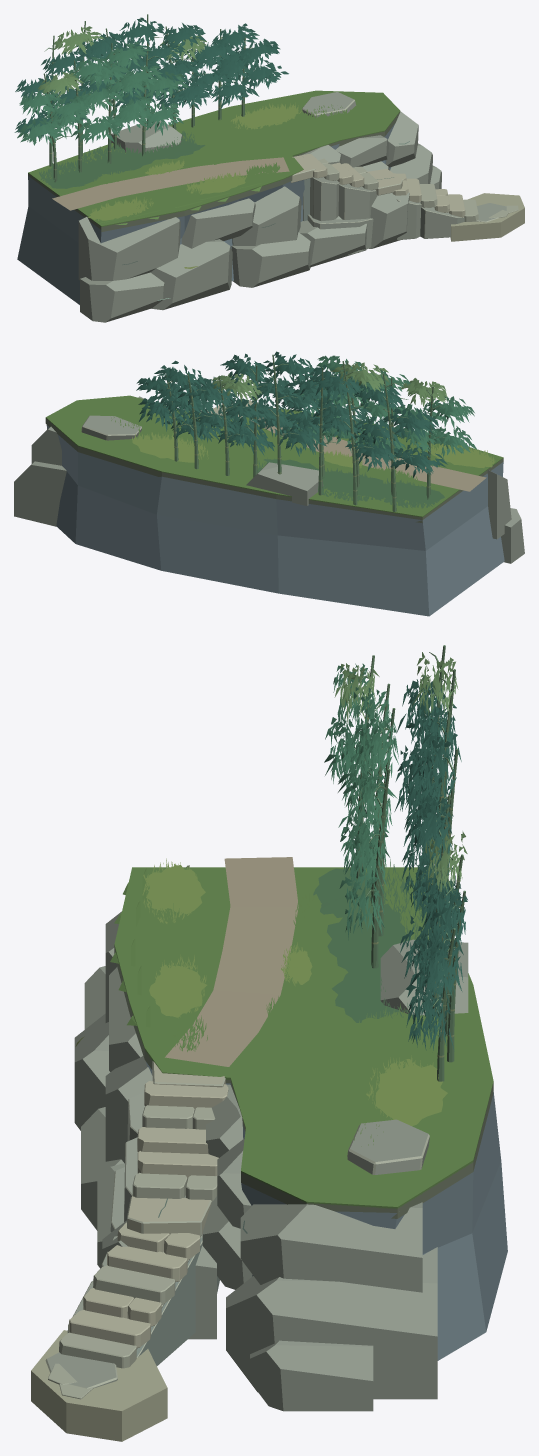
The model's file is fresh_pixel_cape.glb.
3 views of the same model, one above another, from view 1: azimuth 30°, elevation 25°; view 2: azimuth 150°, elevation 25°; view 3: azimuth 270°, elevation 25° (orthographic). The views are drawn at different scales.
Parts seen in each view (by area): view 1: Terrace_Grass_Surface, Cape_Continuous_Core, Rock_West_Crown, Rock_Mid_Lower, Quiet_Earth_Path, Rock_West_Foot, Rock_Entry_Foot, Rock_Entry_Main, Rock_Mid_Crown, Rock_Lower_Bank, Lower_Shore_Shelf, Rock_Landing_Buttress (+59 smaller); view 2: Cape_Continuous_Core, Terrace_Grass_Surface, Rock_End_Lower, Terrace_Earth_Thickness, Quiet_Earth_Path, Rock_Bamboo_Buried.001, Rock_West_Crown, Grass_Patch_Blades_05, Grass_Patch_Blades_04, Rock_Terrace_Slab, Grass_Patch_Blades_08, Grass_Patch_Blades_07 (+49 smaller); view 3: Terrace_Grass_Surface, Rock_End_Lower, Quiet_Earth_Path, Cape_Continuous_Core, Rock_End_Crown, Rock_End_Foot, Lower_Shore_Shelf, Rock_Terrace_Slab, Rock_Mid_Lower, Grass_Patch_08, Rock_Bamboo_Buried.001, Lower_Flight_Embedded_Rockbed (+54 smaller).
Part boxes in pixels (x1=…): Terrace_Grass_Surface: x1=28, y1=90, x2=400, y2=226; Cape_Continuous_Core: x1=17, y1=123, x2=395, y2=304; Rock_West_Crown: x1=78, y1=217, x2=180, y2=280; Rock_Mid_Lower: x1=151, y1=239, x2=232, y2=310; Quiet_Earth_Path: x1=52, y1=157, x2=289, y2=210; Rock_West_Foot: x1=80, y1=272, x2=164, y2=322; Rock_Entry_Foot: x1=231, y1=232, x2=310, y2=287; Rock_Entry_Main: x1=232, y1=186, x2=301, y2=245; Rock_Mid_Crown: x1=181, y1=198, x2=255, y2=248; Rock_Lower_Bank: x1=299, y1=216, x2=367, y2=267; Lower_Shore_Shelf: x1=450, y1=193, x2=524, y2=241; Rock_Landing_Buttress: x1=369, y1=192, x2=409, y2=248; Cape_Continuous_Core: x1=46, y1=425, x2=504, y2=616; Terrace_Grass_Surface: x1=45, y1=395, x2=503, y2=517; Rock_End_Lower: x1=14, y1=461, x2=66, y2=526; Terrace_Earth_Thickness: x1=45, y1=418, x2=503, y2=523; Quiet_Earth_Path: x1=251, y1=417, x2=486, y2=491; Rock_Bamboo_Buried.001: x1=246, y1=462, x2=323, y2=505; Rock_West_Crown: x1=487, y1=470, x2=511, y2=539; Grass_Patch_Blades_05: x1=318, y1=468, x2=384, y2=501; Grass_Patch_Blades_04: x1=369, y1=478, x2=439, y2=508; Rock_Terrace_Slab: x1=81, y1=415, x2=141, y2=440; Grass_Patch_Blades_08: x1=132, y1=432, x2=207, y2=460; Grass_Patch_Blades_07: x1=198, y1=443, x2=266, y2=473; Terrace_Grass_Surface: x1=114, y1=867, x2=493, y2=1208; Rock_End_Lower: x1=226, y1=1247, x2=437, y2=1399; Quiet_Earth_Path: x1=165, y1=857, x2=298, y2=1066; Cape_Continuous_Core: x1=146, y1=1062, x2=507, y2=1360; Rock_End_Crown: x1=240, y1=1202, x2=422, y2=1292; Rock_End_Foot: x1=250, y1=1340, x2=373, y2=1411; Lower_Shore_Shelf: x1=31, y1=1330, x2=167, y2=1441; Rock_Terrace_Slab: x1=347, y1=1119, x2=429, y2=1174; Rock_Mid_Lower: x1=74, y1=1013, x2=110, y2=1130; Grass_Patch_08: x1=375, y1=1059, x2=447, y2=1125; Rock_Bamboo_Buried.001: x1=380, y1=939, x2=468, y2=1015; Lower_Flight_Embedded_Rockbed: x1=136, y1=1238, x2=202, y2=1365.
Size of what is drawn, in the model's own units: 20.32 by 9.53 by 9.43.
